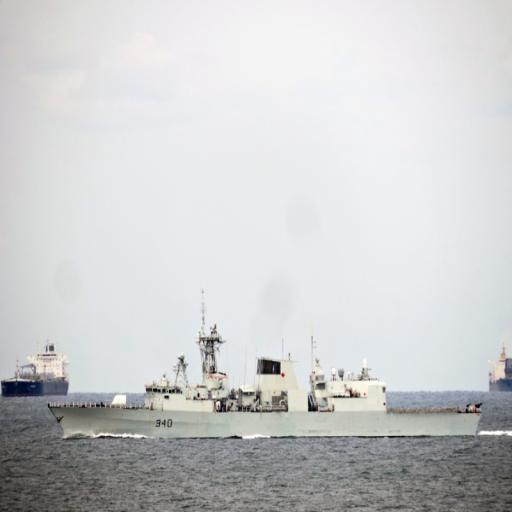Fragata: (49, 279, 485, 447)
